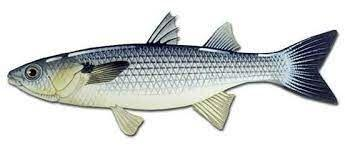Mullet: (7, 11, 340, 133)
